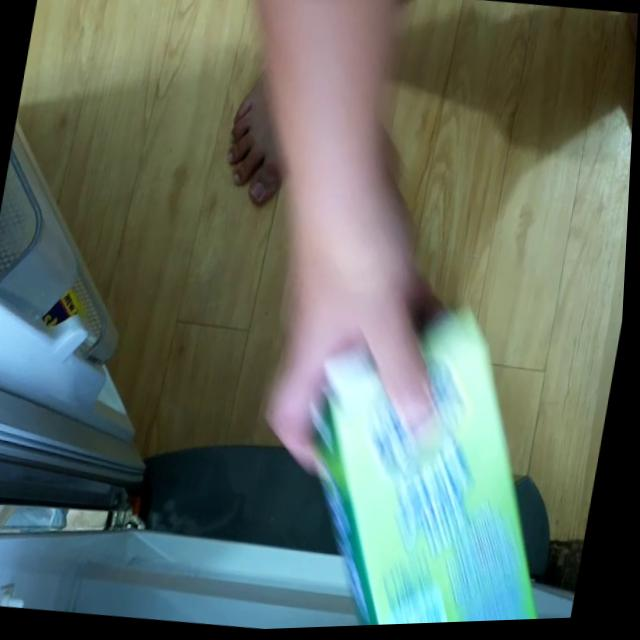milk: (282, 291, 604, 631)
